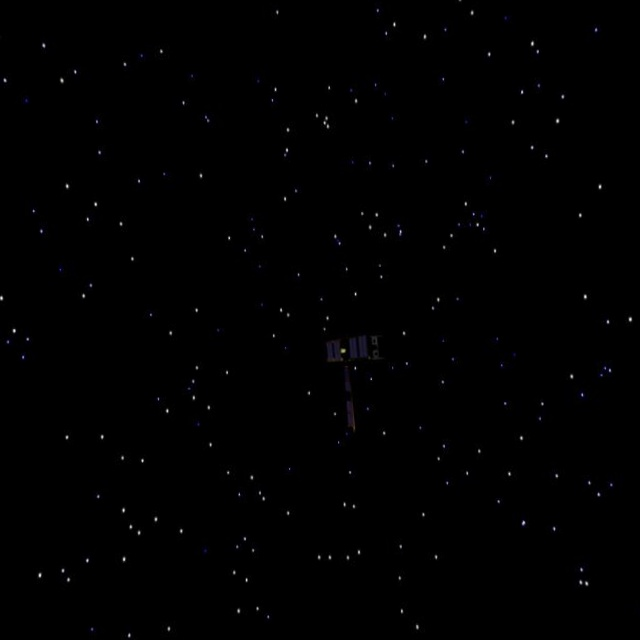satellite: (298, 300, 407, 442)
